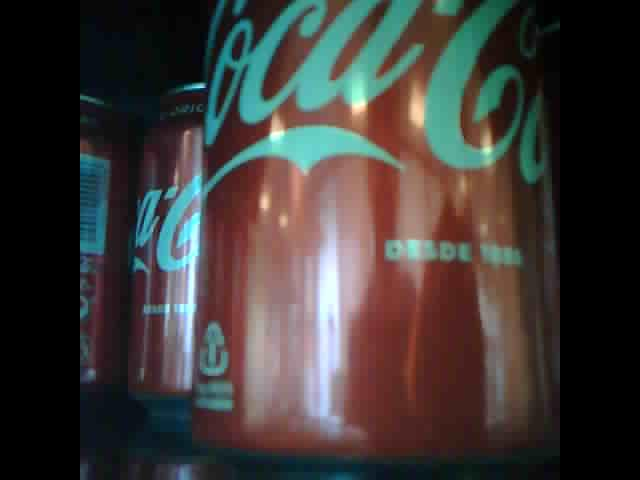coca cola: (186, 5, 563, 463), (121, 76, 204, 405), (79, 90, 121, 395)
